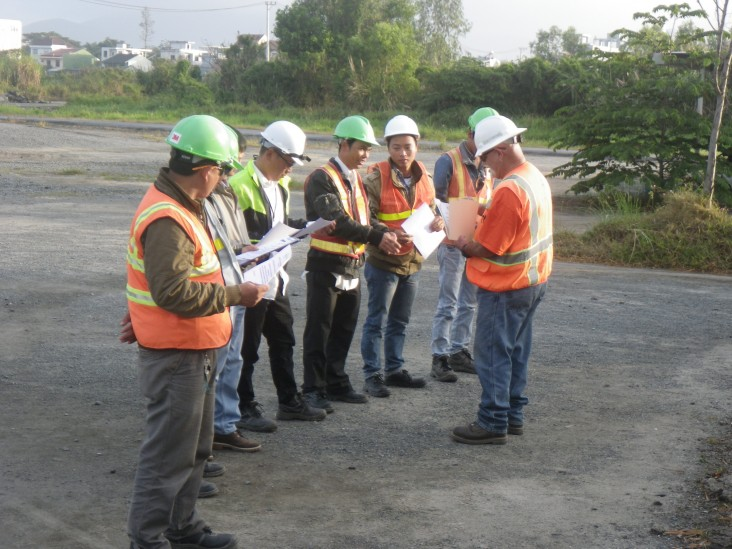epi: (127, 111, 241, 548), (465, 113, 551, 452), (234, 120, 326, 432), (306, 113, 390, 412), (370, 111, 448, 401), (433, 104, 495, 378)
